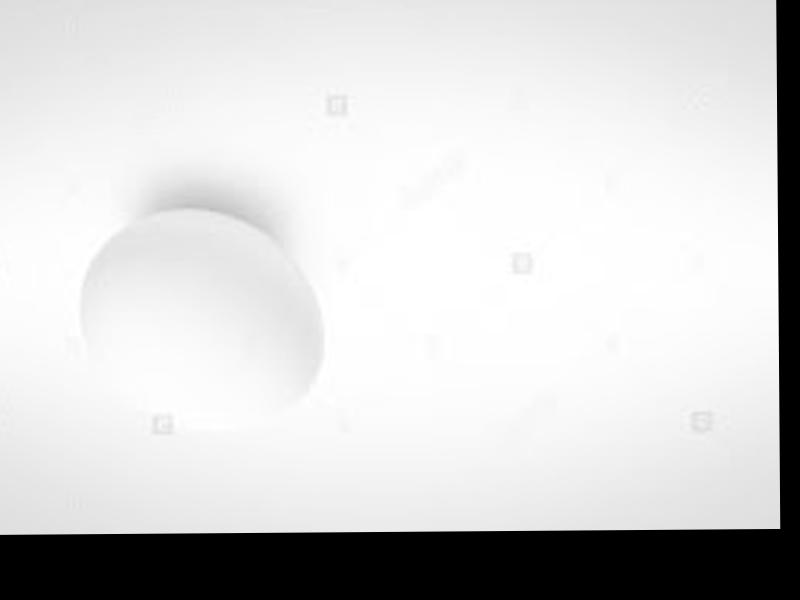Eggs: (76, 207, 321, 428)
